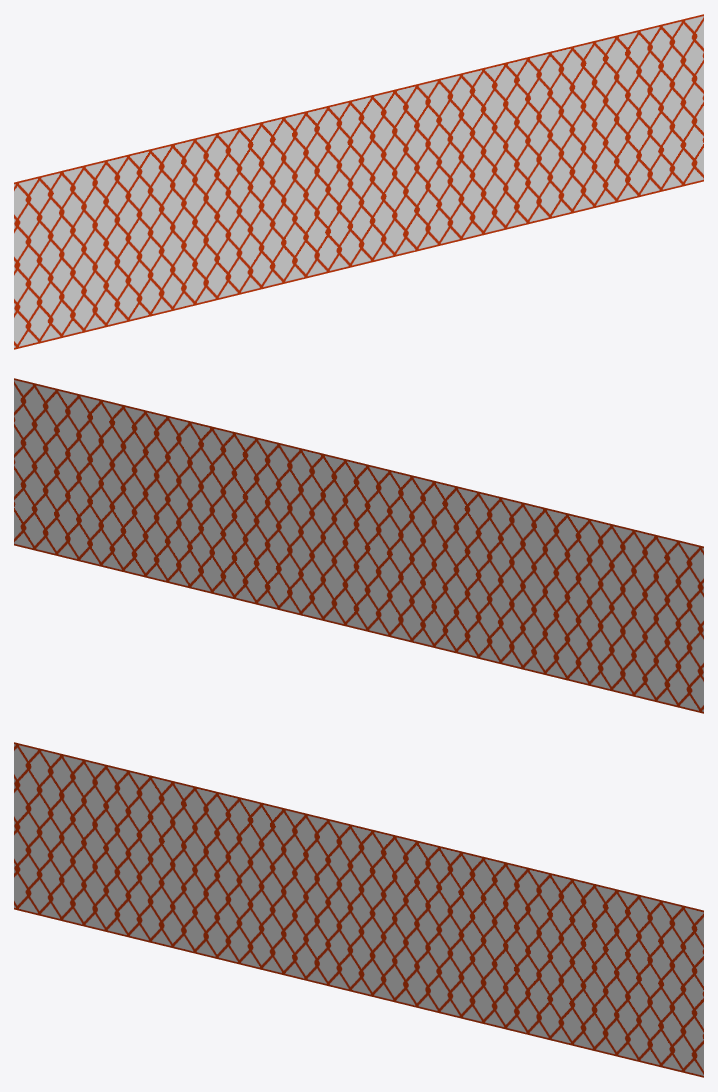
File: orangeFencePeice_flat_2.fbx
The picture shows the model from 3 angles, top to bottom: view 1: azimuth 30°, elevation 25°; view 2: azimuth 150°, elevation 25°; view 3: azimuth 330°, elevation 25°; orthographic projection.
Parts seen in each view (by area): view 1: Plane01, Duplicate05; view 2: Plane01, Duplicate05; view 3: Plane01, Duplicate05.
Part boxes in pixels (<box>): Plane01: <box>14,14,703,349</box>; Duplicate05: <box>14,15,703,348</box>; Plane01: <box>14,378,703,713</box>; Duplicate05: <box>14,379,703,712</box>; Plane01: <box>14,742,703,1077</box>; Duplicate05: <box>14,743,703,1077</box>.
Size of the model in its own units: 360 by 83.5 by 0.
